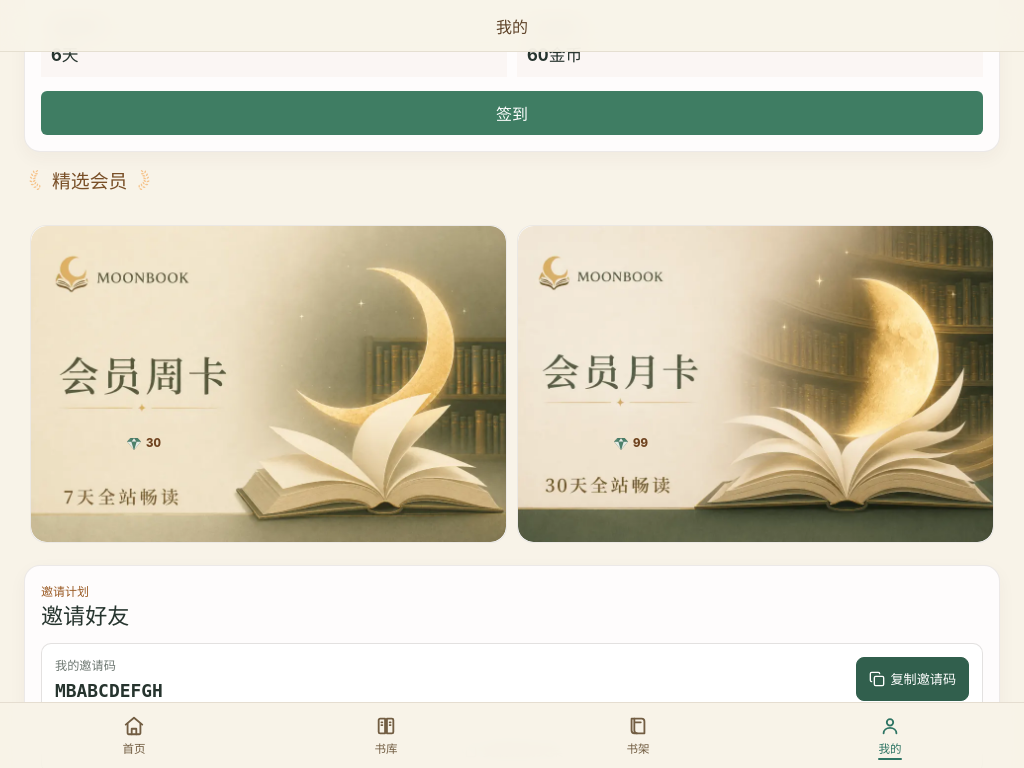
Test: MePage › locks all plans while one purchase is pending
(page scrolled)
Click the button named "购买会员周卡，30钻石" at (268, 384), box 30,225 -> 507,543
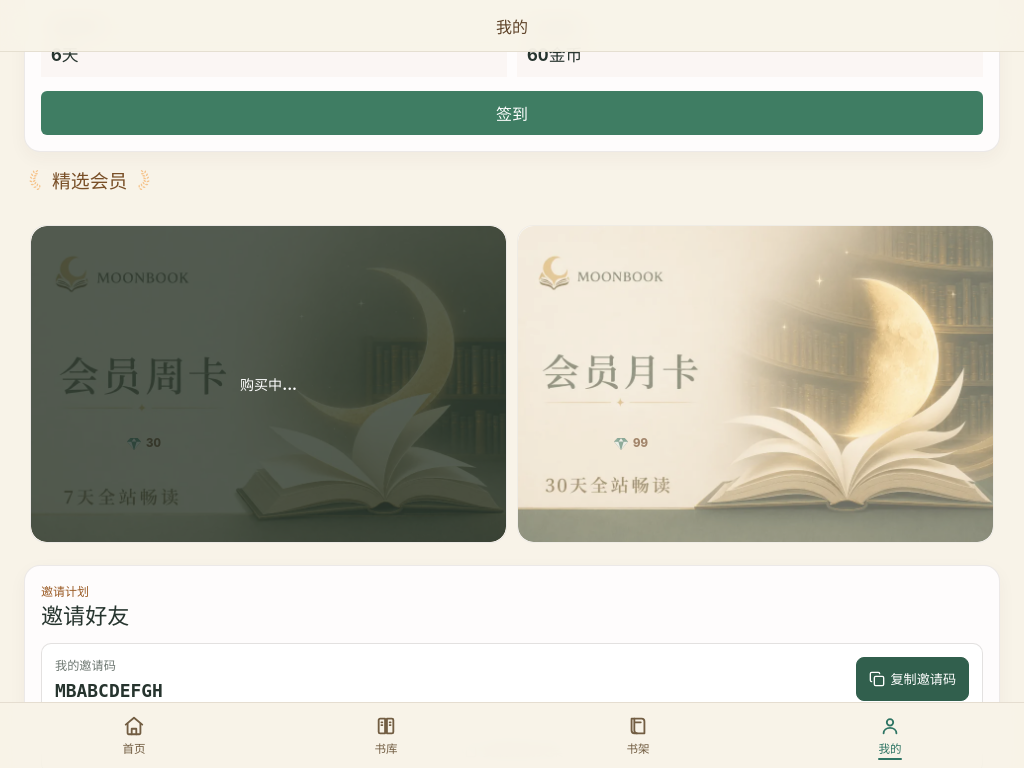
Now the button with aria-label "购买会员周卡，30钻石" is disabled, box 30,225 -> 507,543
Now the button named "购买会员月卡，99钻石" is disabled, box 517,225 -> 994,543
